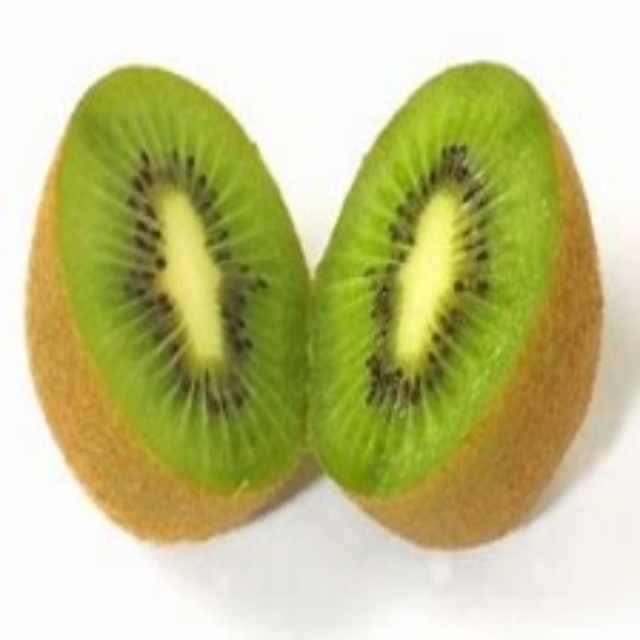kiwi: (315, 60, 601, 548), (34, 67, 304, 541)
